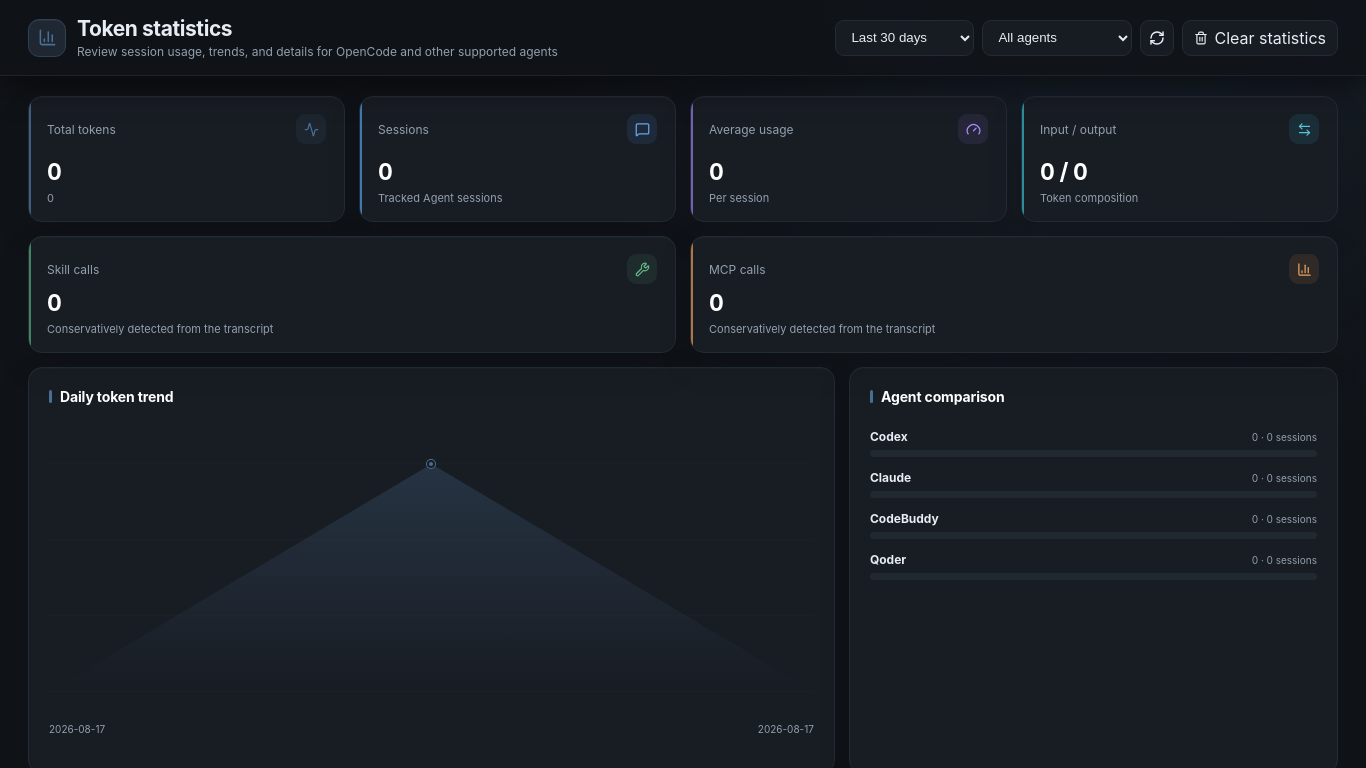
AgentTokenStatsDashboard › shows trend details when a data point receives keyboard focus
Focus the button named "2026-08-17: Total tokens 100" at (432, 464), box [422,455,440,473]
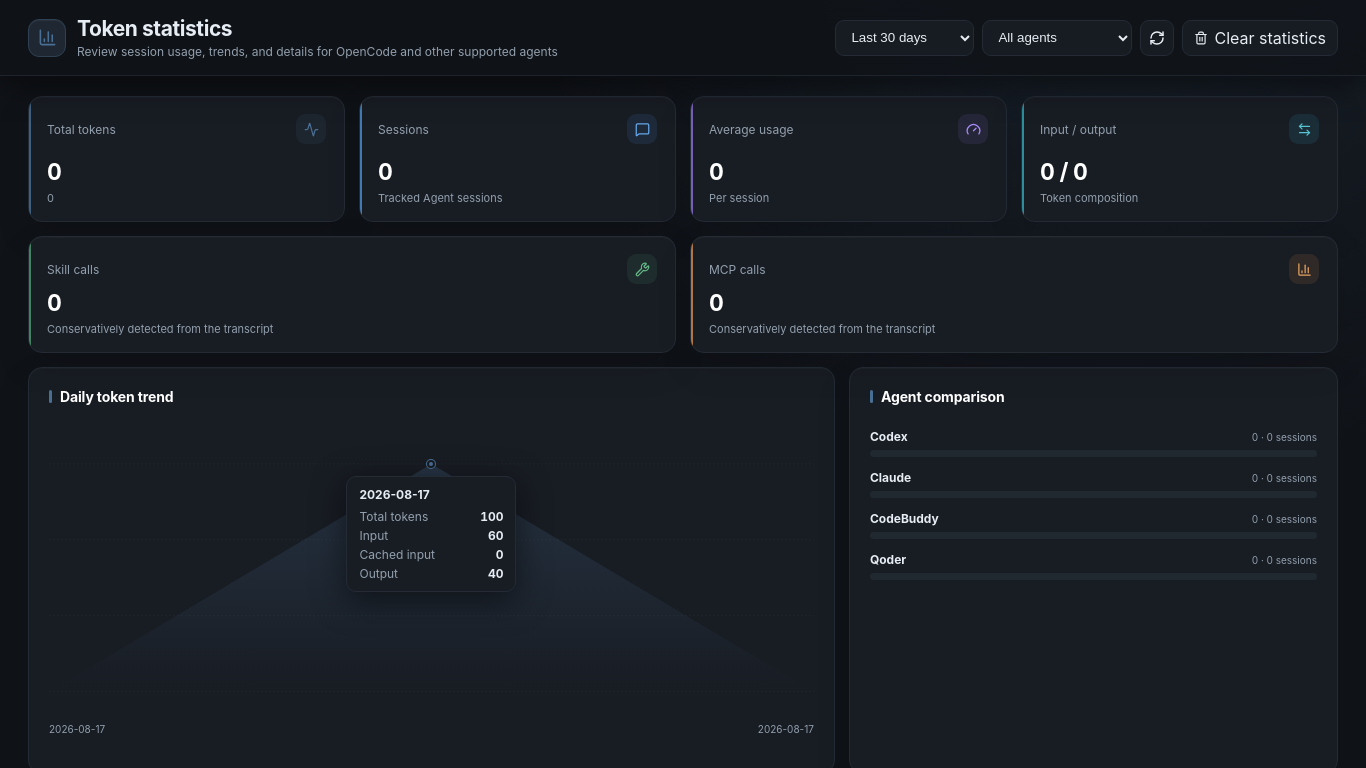
Check: the tooltip is shown, box [346,476,516,592]
Leave the button named "2026-08-17: Total tokens 100", box [422,455,440,473]
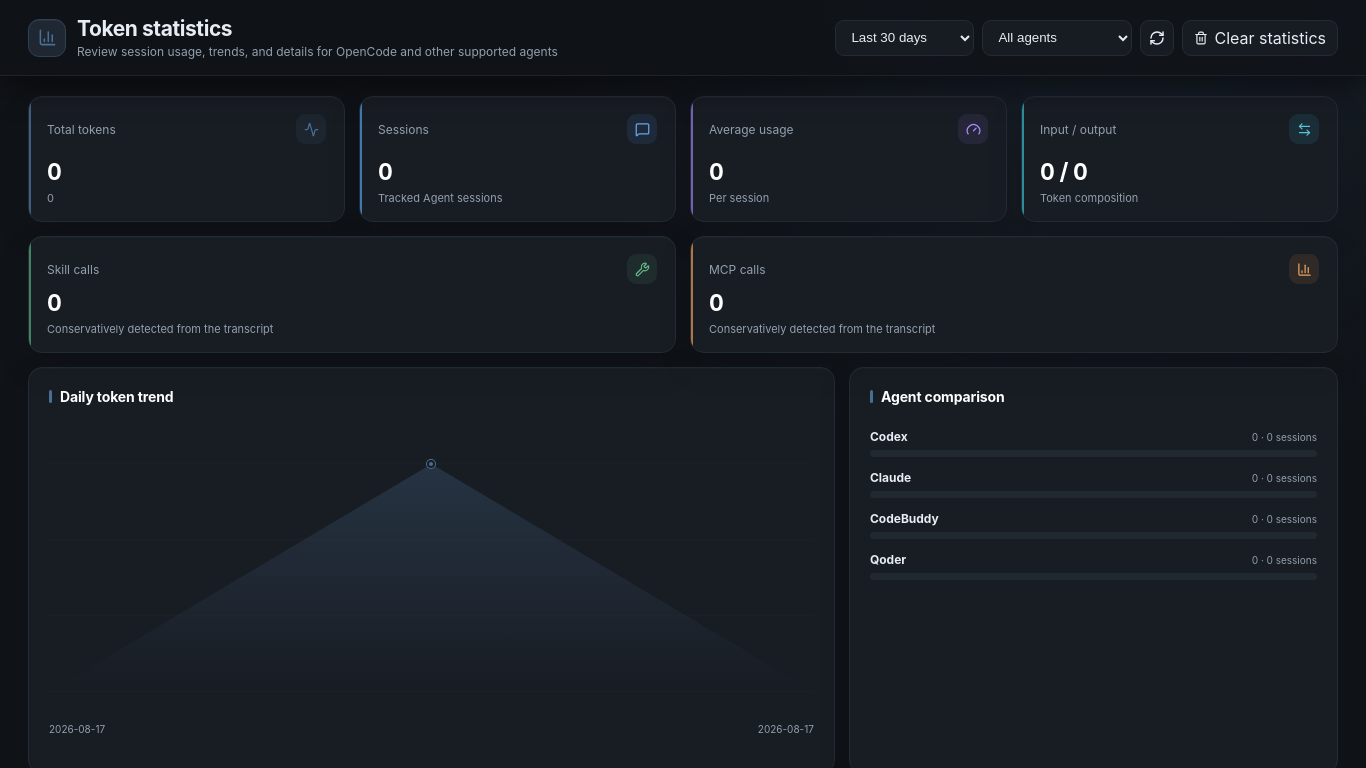
Check: the tooltip "2026-08-17 Total tokens 100 Input 60 Cached input 0 Output 40" is gone
